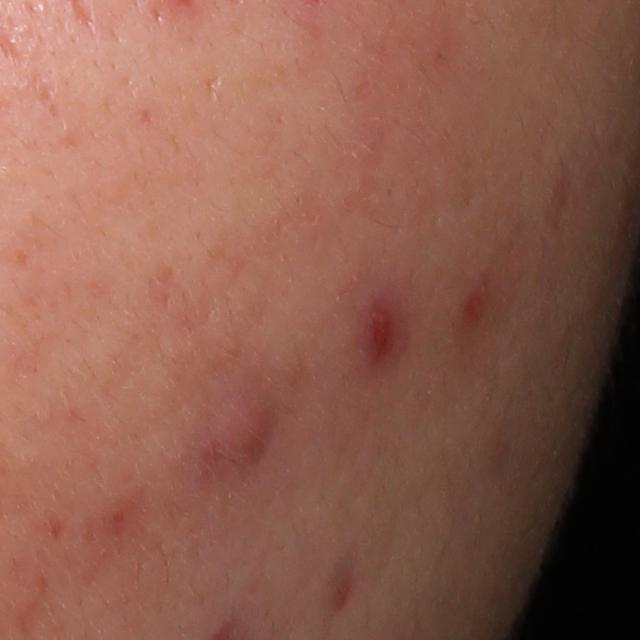papule: (193, 378, 282, 478), (454, 281, 502, 333), (358, 300, 397, 363)
